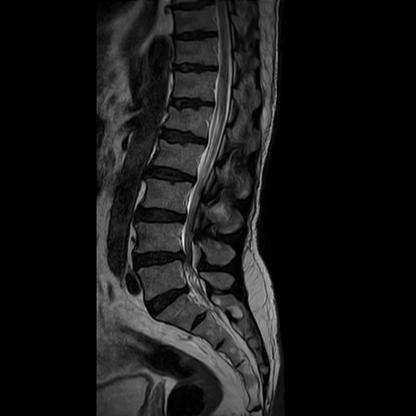Annular Disc Relaxationrotation: (159, 128, 208, 151), (146, 165, 196, 187)
Disc Bulgerotation: (144, 287, 196, 312), (131, 250, 185, 270)
